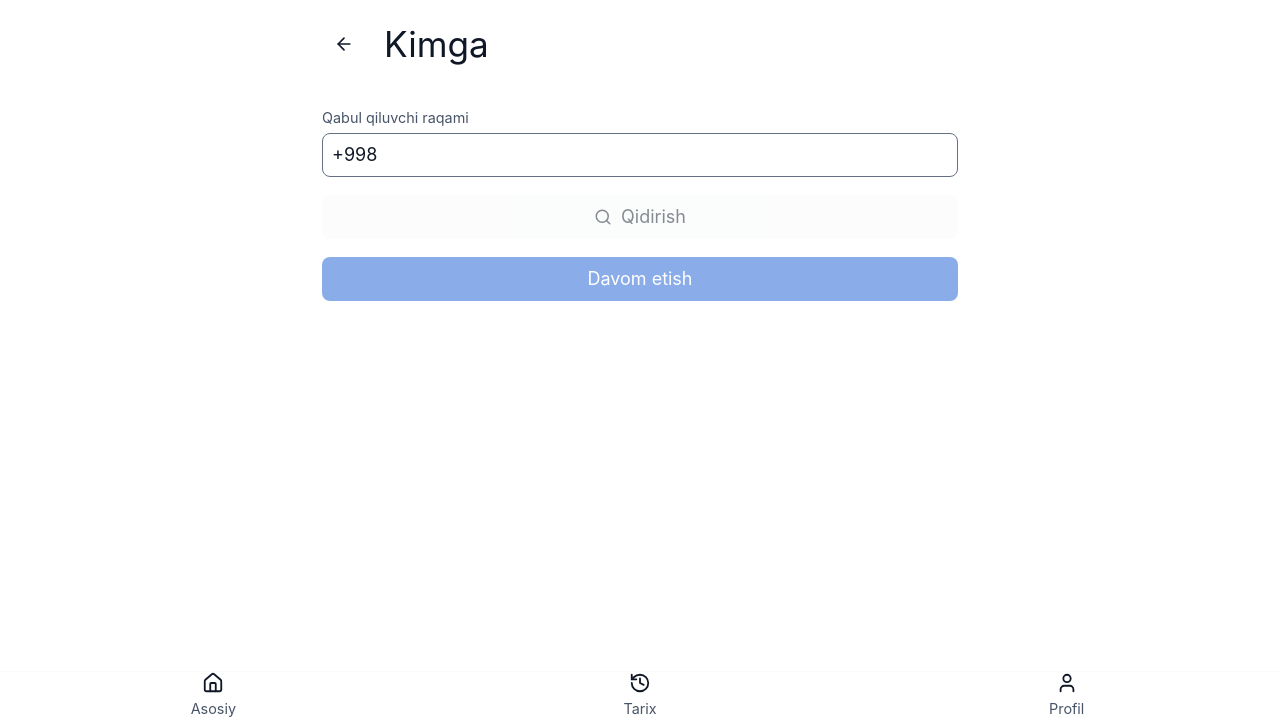
Test: step 1 — who the money is for › says which failure it was, because the fixes differ
This screenshot has width=1280, height=720.
In the field labelled "Qabul qiluvchi raqami": (640, 155) [322,133,958,177], type "907654321"
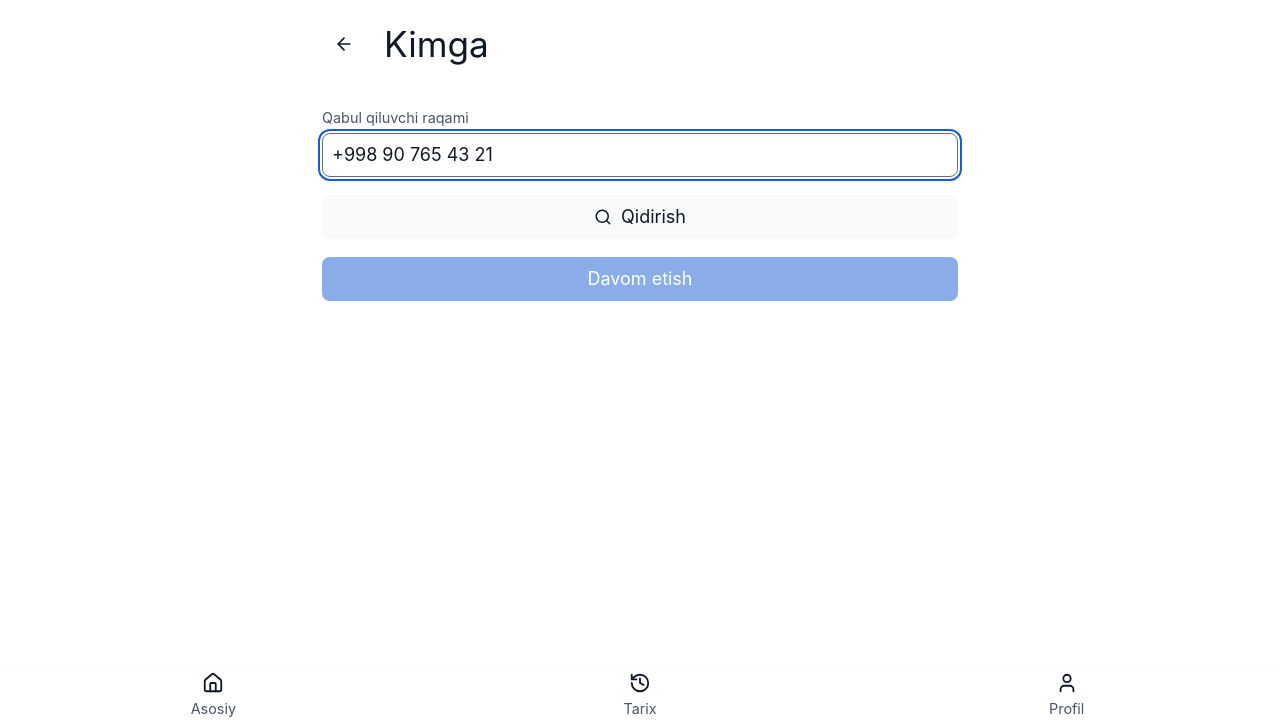
Click the button "Qidirish": (640, 217) [322,195,958,239]
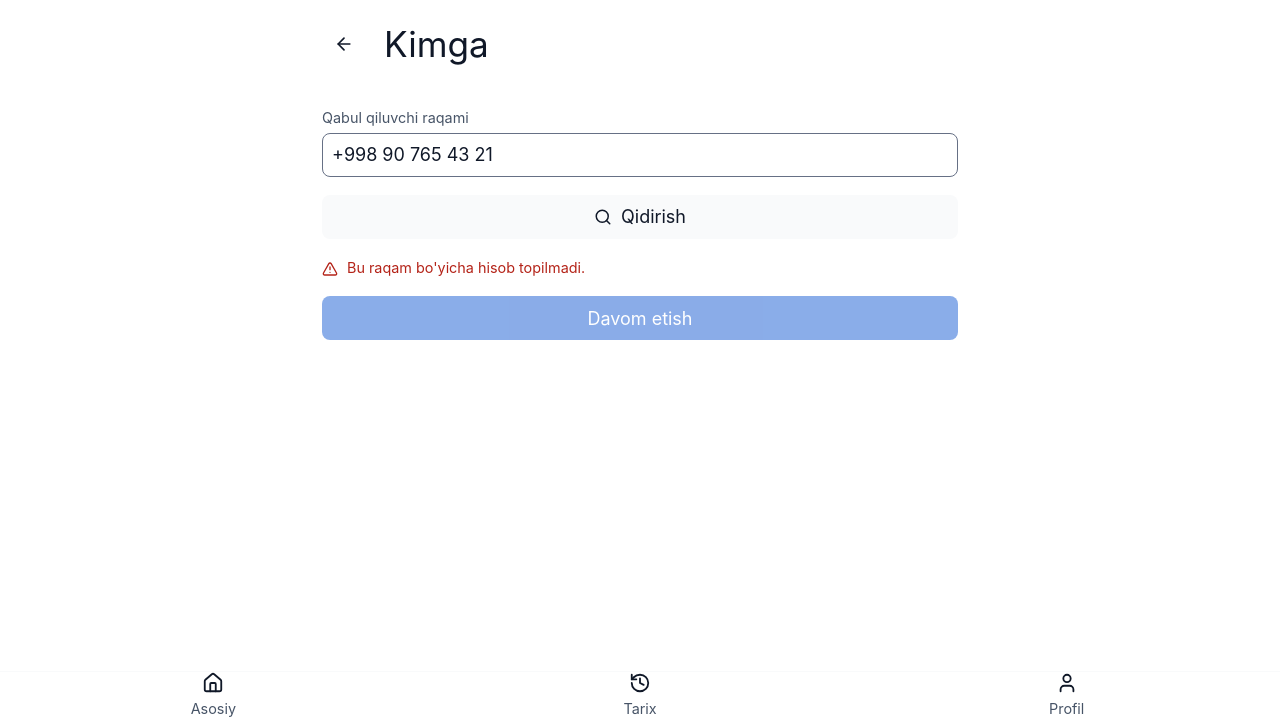
Expected: the button "Davom etish" is disabled, [322,296,958,340]
Expected: the message shows "hisob topilmadi", [347,259,585,276]
